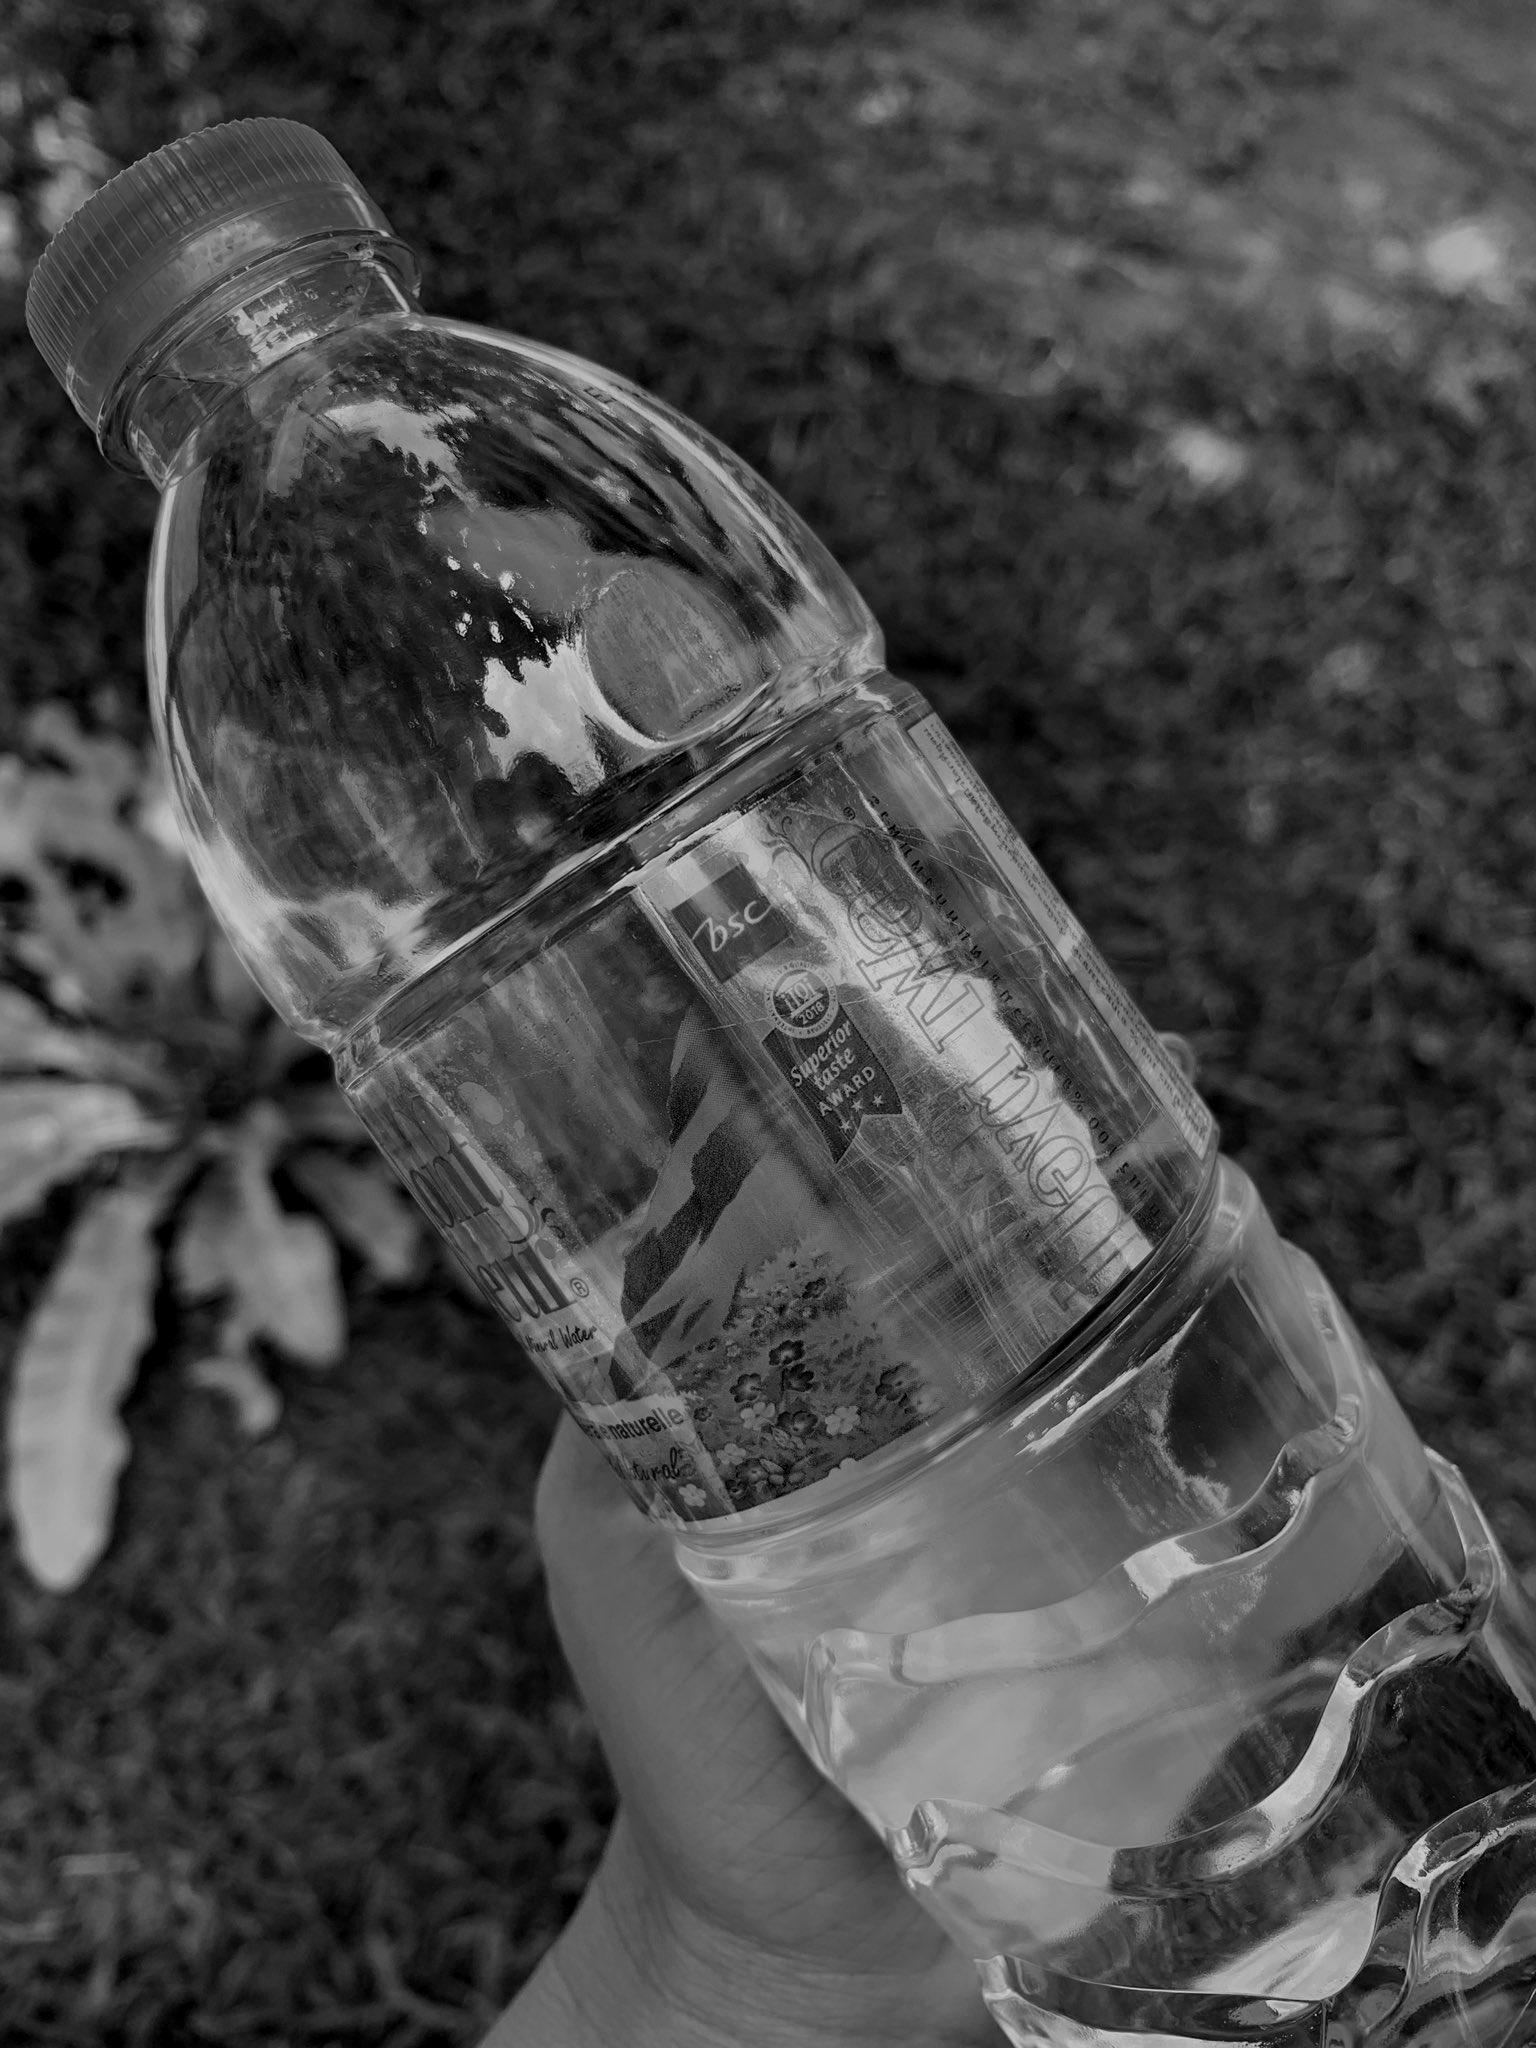bottle: (2, 81, 1536, 2048)
